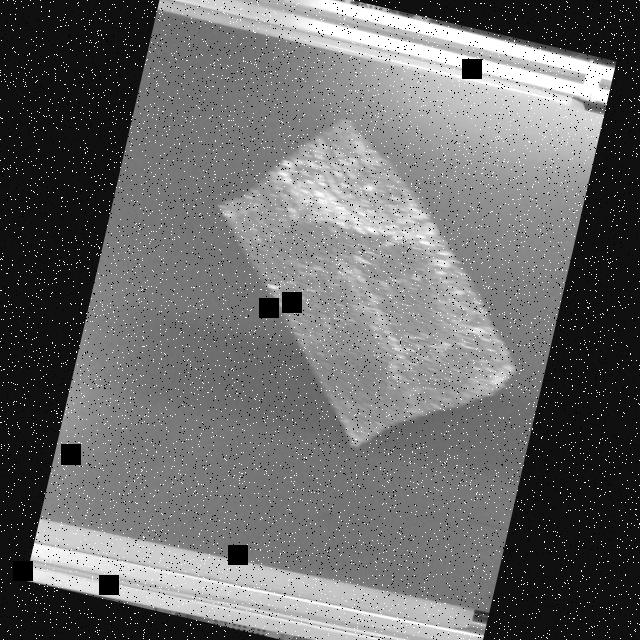scrap_plastic: (168, 92, 562, 478)
